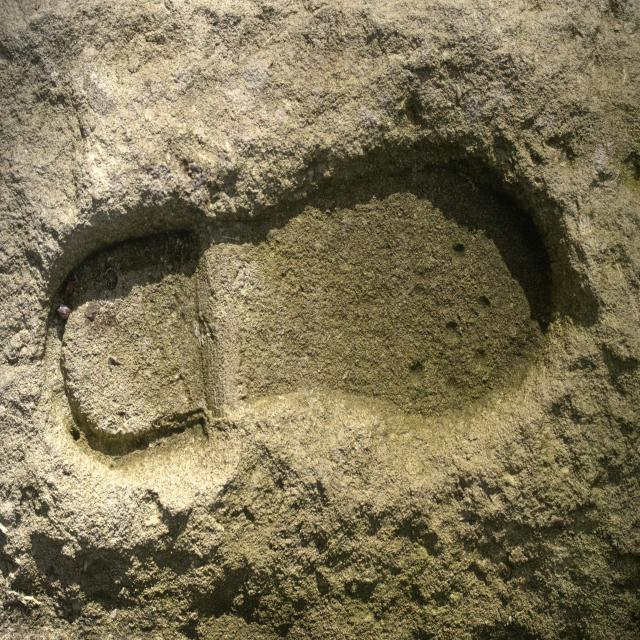human_footprint: (17, 100, 640, 584)
